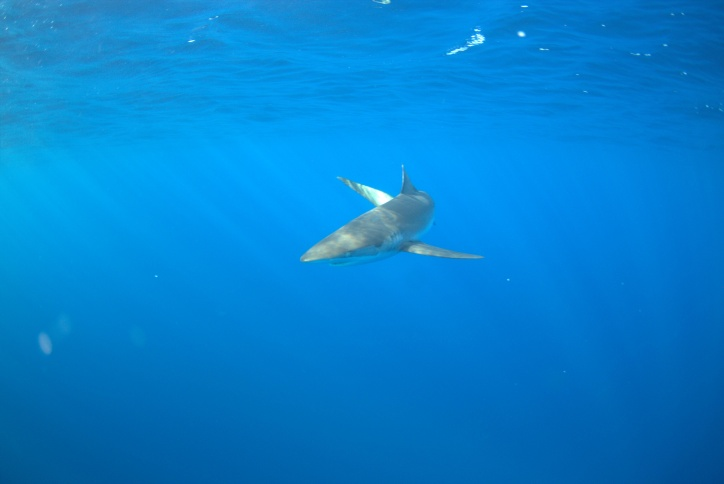Sedoso: (281, 150, 481, 284)
